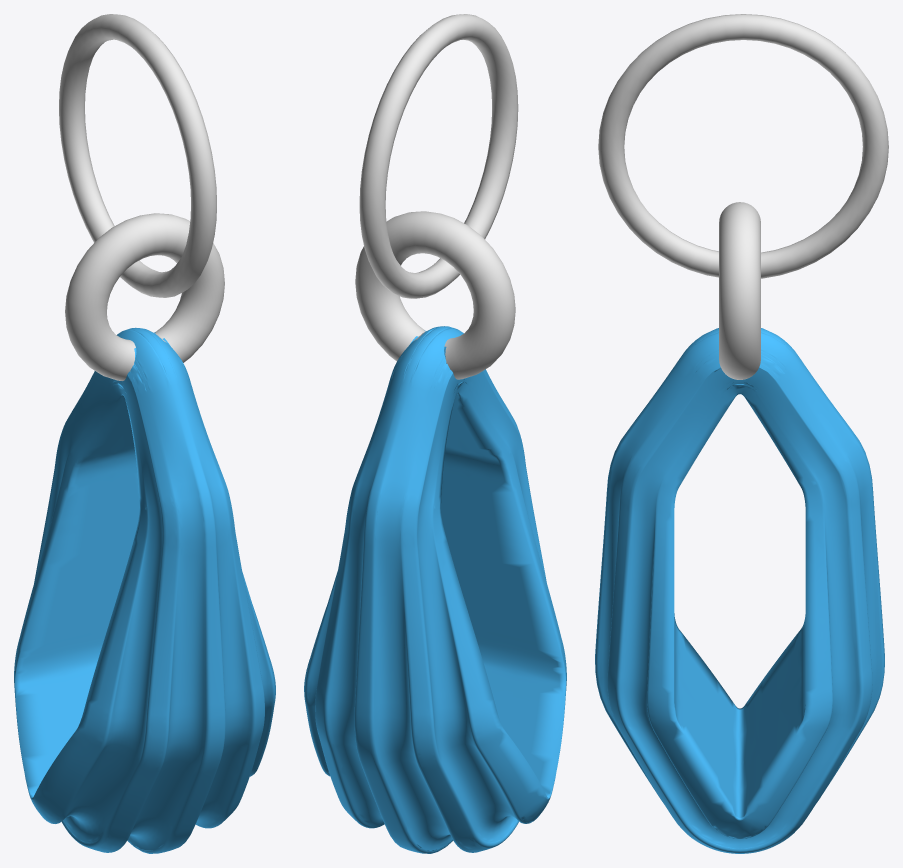
Rendered from CHARMS6.glb.
3 views of the same model, side by side, from view 1: azimuth 30°, elevation 25°; view 2: azimuth 150°, elevation 25°; view 3: azimuth 270°, elevation 25° (orthographic).
Visible parts, largest first — view 1: charm3.001; view 2: charm3.001; view 3: charm3.001.
Part boxes in pixels (<box>): charm3.001: <box>14,14,275,853</box>; charm3.001: <box>304,14,566,853</box>; charm3.001: <box>595,14,888,853</box>.
Bounding box in the file's own units: 0.7816 × 2.7 × 0.8755.
